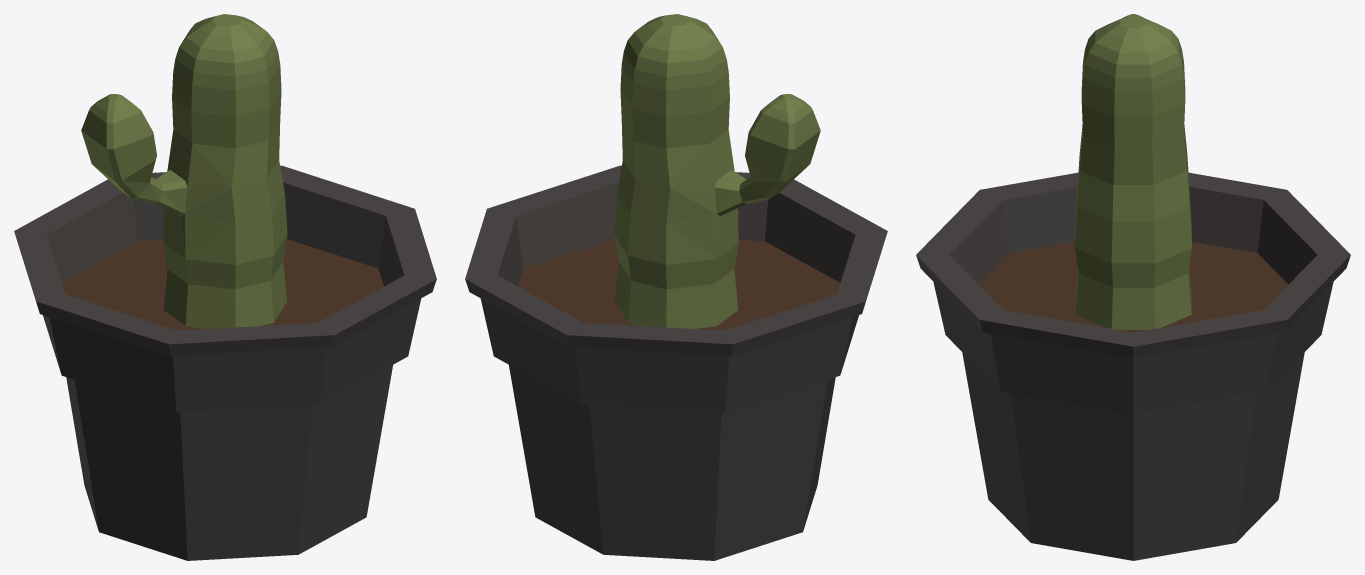
Rendered from Cactus_01.fbx.
The picture shows the model from 3 angles, left to right: view 1: azimuth 30°, elevation 25°; view 2: azimuth 150°, elevation 25°; view 3: azimuth 270°, elevation 25°; orthographic projection.
Visible parts, largest first — view 1: Cactus_01; view 2: Cactus_01; view 3: Cactus_01.
Part boxes in pixels (left/top/right/bottom): Cactus_01: left=14, top=14, right=436, bottom=560; Cactus_01: left=465, top=14, right=887, bottom=560; Cactus_01: left=916, top=14, right=1350, bottom=560.
Bounding box in the file's own units: 27.93 × 33.87 × 27.93.
